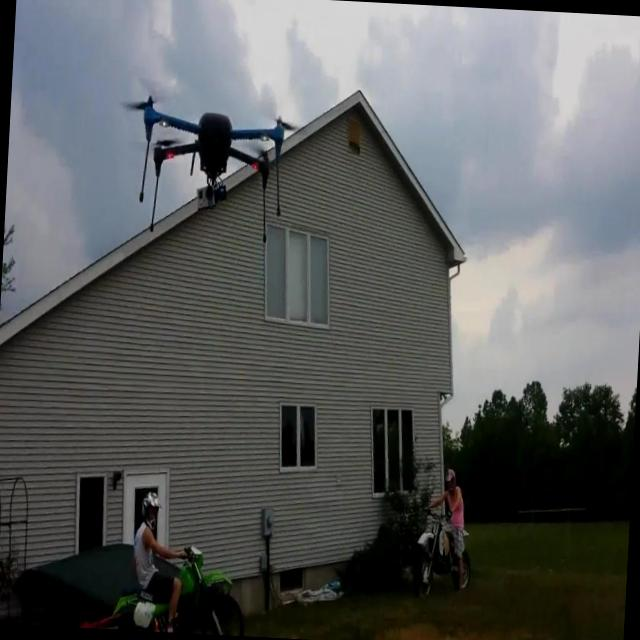drone: (117, 90, 296, 246)
